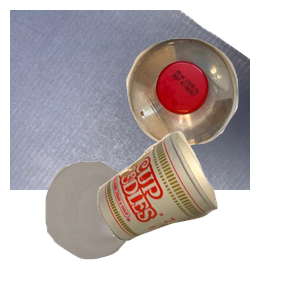cardboard: (10, 10, 250, 190)
glass: (43, 159, 187, 300)
plastic: (124, 36, 300, 175)
trash: (95, 129, 300, 300)
